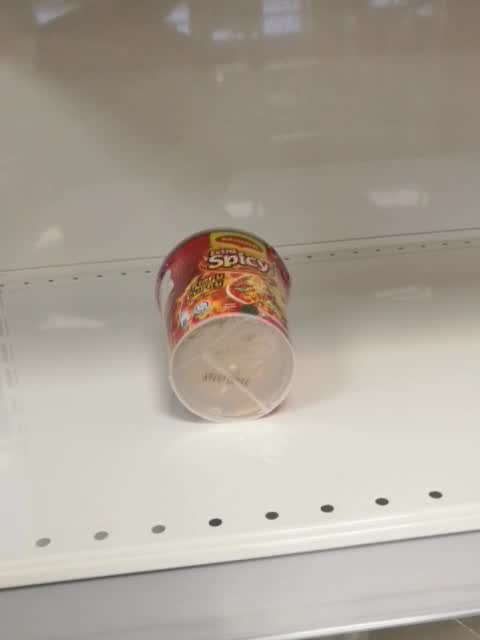maggi: (153, 227, 298, 423)
